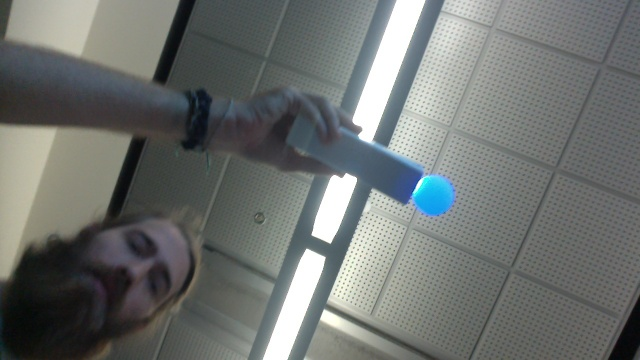wand: (415, 175, 454, 216)
